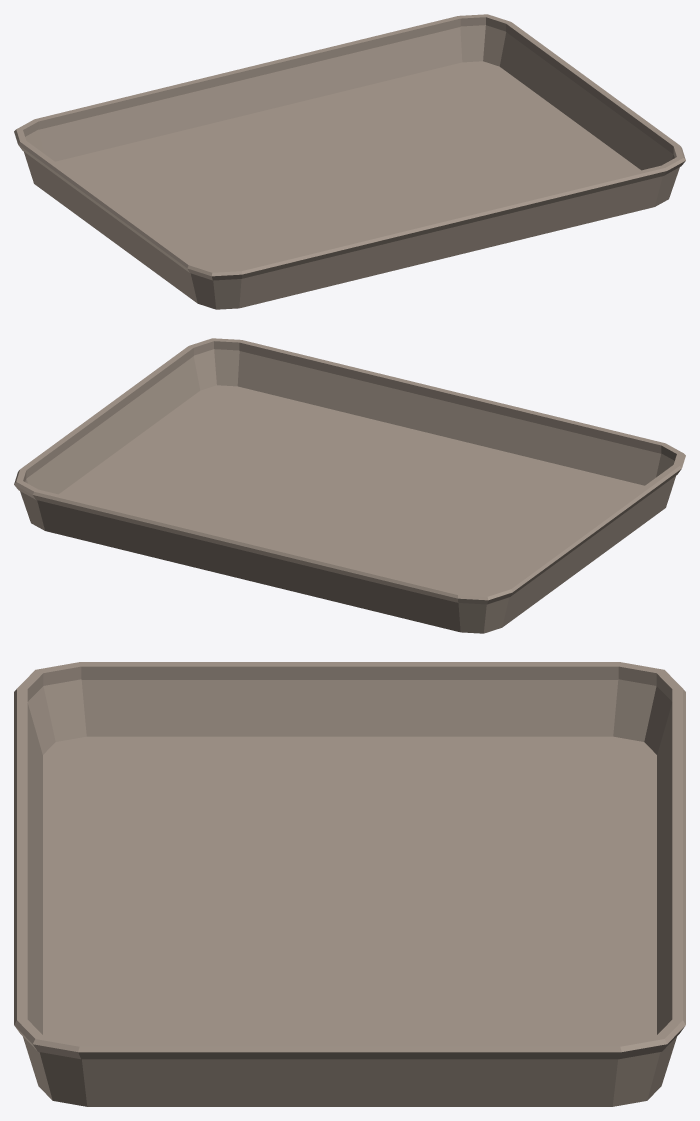
File: SM_Cook_TeaTray_01.fbx
3 renders of one model, top to bottom at view 1: azimuth 30°, elevation 25°; view 2: azimuth 150°, elevation 25°; view 3: azimuth 270°, elevation 25°, orthographic. The views are drawn at different scales.
Visible parts, largest first — view 1: SM_Cook_TeaTray_01; view 2: SM_Cook_TeaTray_01; view 3: SM_Cook_TeaTray_01.
Part boxes in pixels (x1,y1,x2,y2): SM_Cook_TeaTray_01: (14, 14, 685, 309); SM_Cook_TeaTray_01: (14, 338, 685, 633); SM_Cook_TeaTray_01: (14, 662, 685, 1106).
Size of the model in its own units: 0.3 by 0.025 by 0.22.
Materials: 1 (1 with a texture image).
